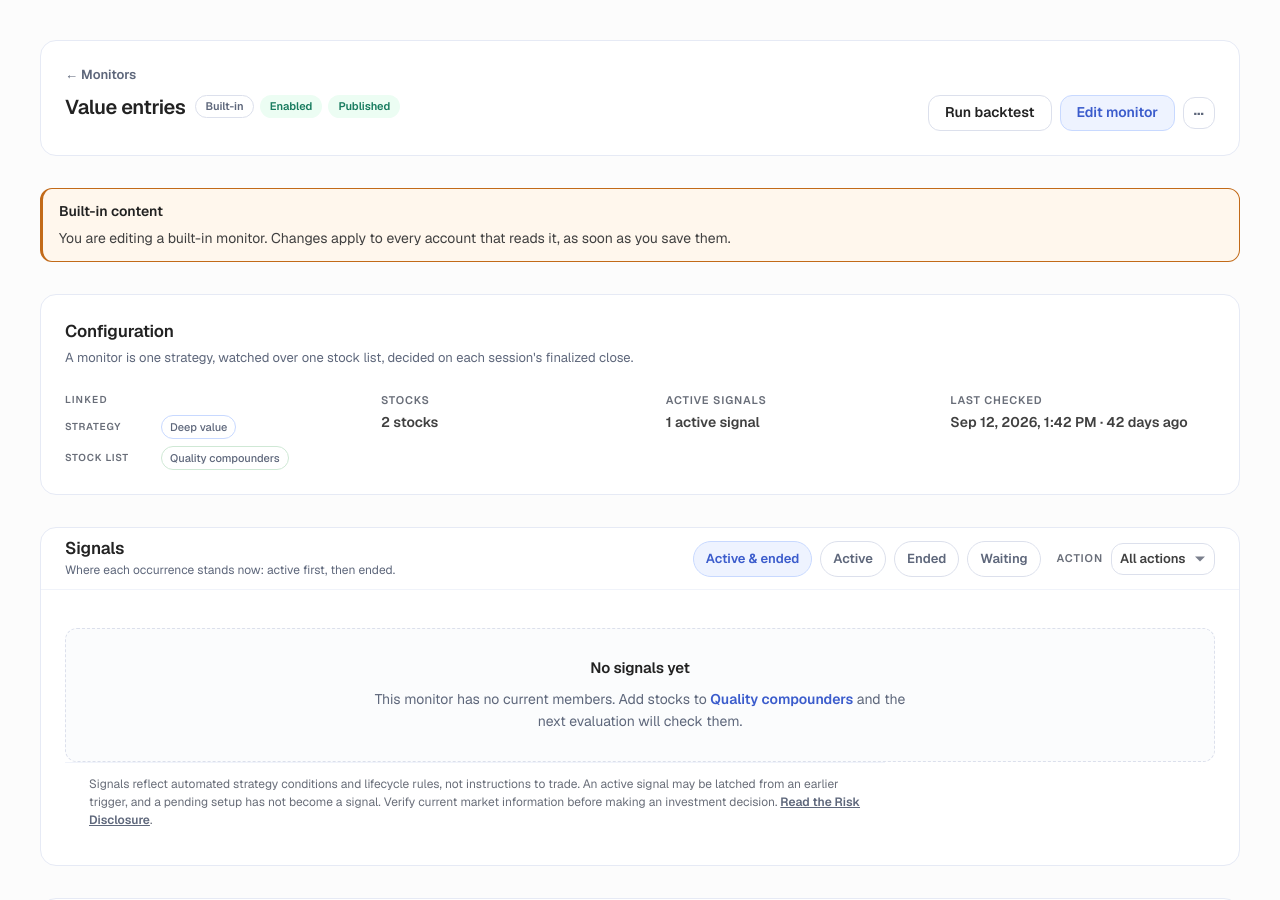
it: MonitorDetail › built-in monitors › lets an administrator pause it for everyone, apart from their own choice
The width and height of the screenshot is (1280, 900).
Step 1. Click the button "…" → (1199, 112), box [1183,96,1215,128]
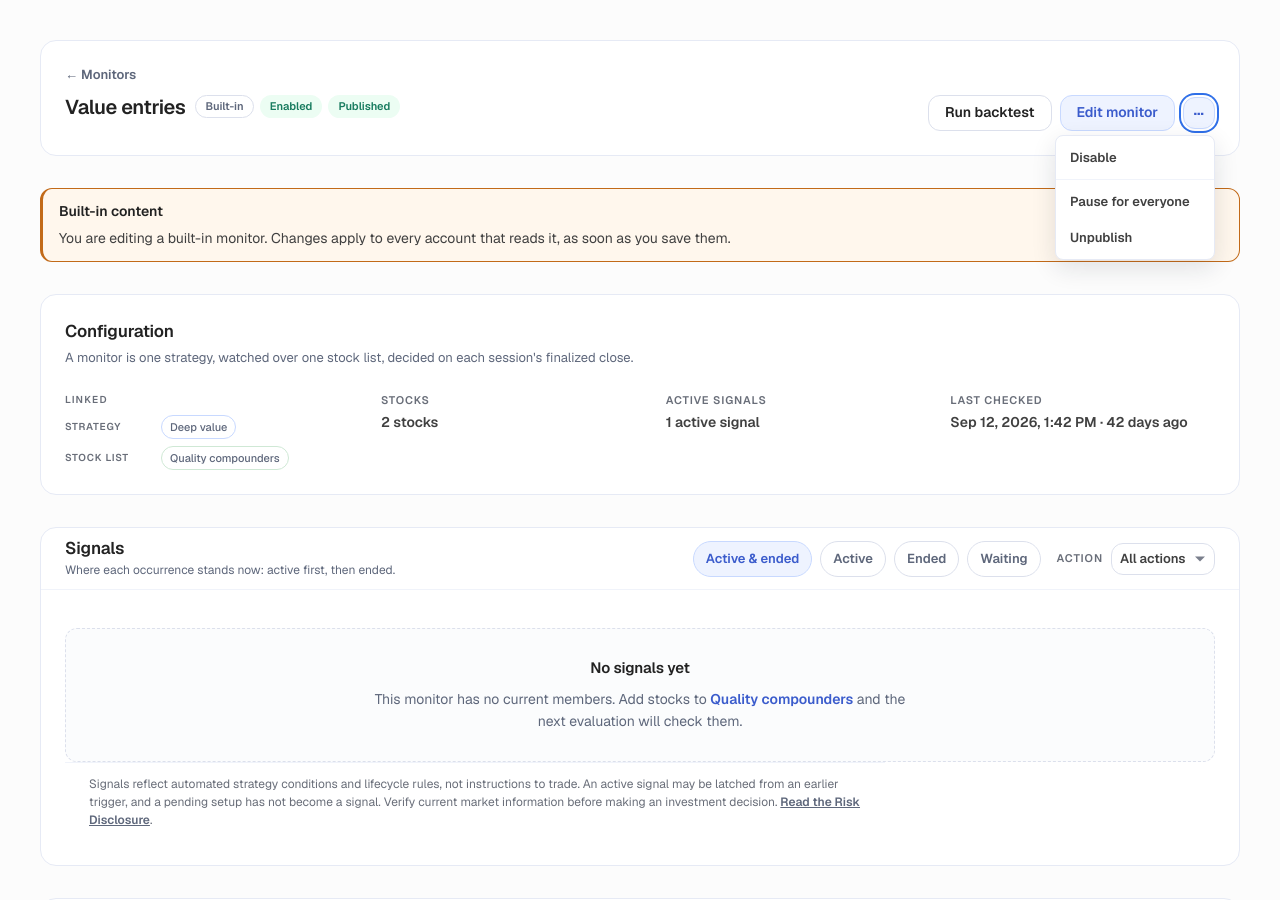
Step 2. Click the button with test id "toggle-monitor-globally" → (1135, 202), box [1056,184,1214,220]
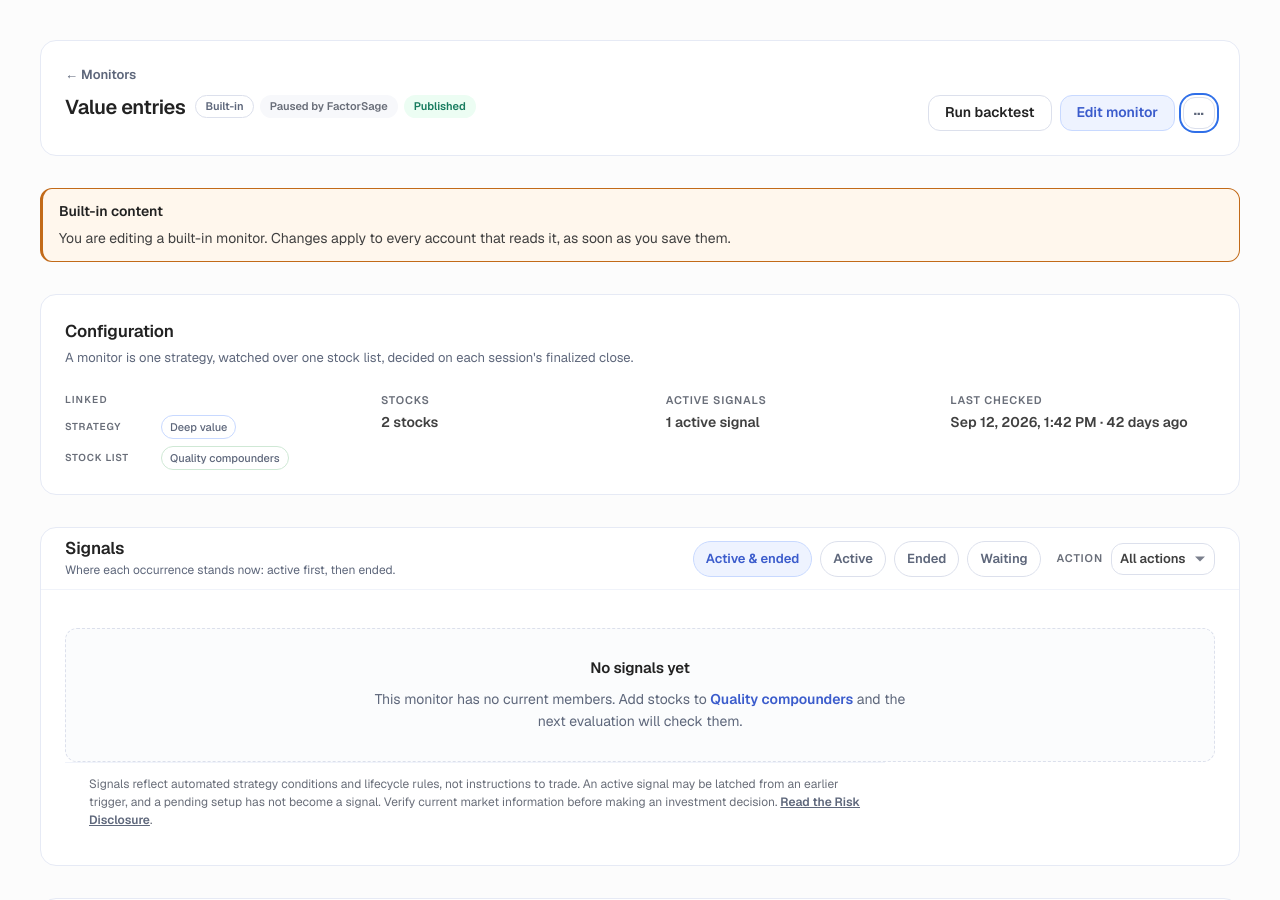
Result: the text with test id "monitor-state-pill" reads "Paused by FactorSage" at [270,98,388,112]
